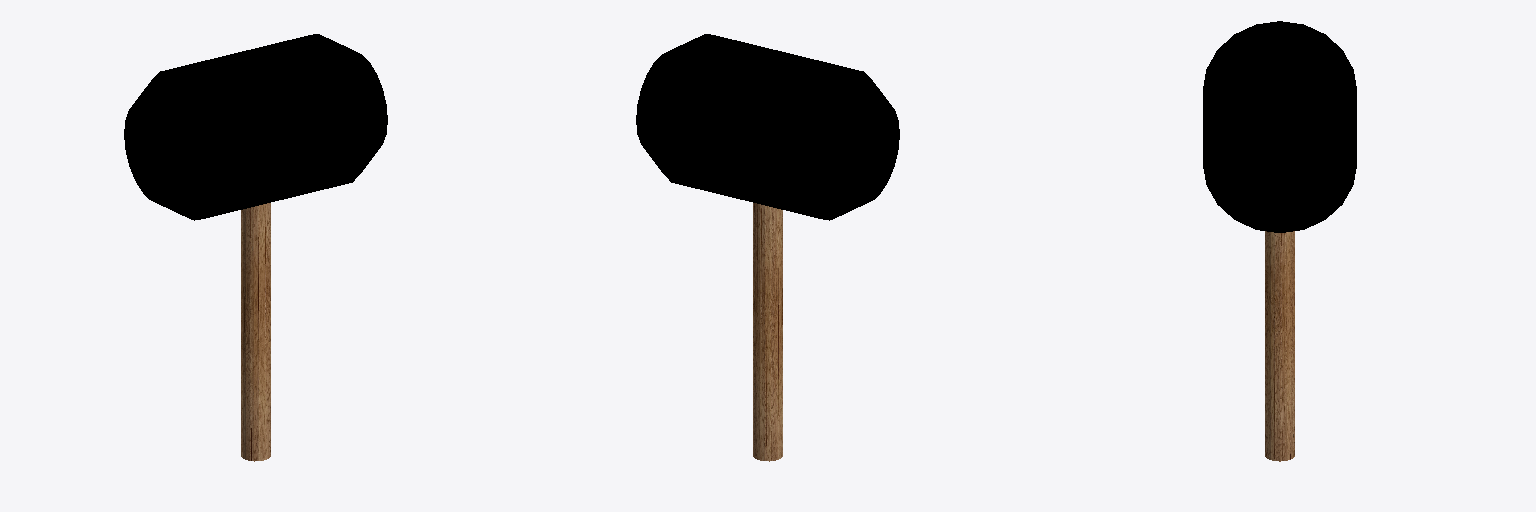
3 renders of one model, left to right at view 1: azimuth 30°, elevation 25°; view 2: azimuth 150°, elevation 25°; view 3: azimuth 270°, elevation 25°, orthographic.
Parts seen in each view (by area): view 1: pCylinder3; view 2: pCylinder3; view 3: pCylinder3.
Part boxes in pixels (bbox=[...]): pCylinder3: bbox=[124, 34, 387, 461]; pCylinder3: bbox=[636, 34, 899, 461]; pCylinder3: bbox=[1203, 21, 1356, 461].
Size of the model in its own units: 3.16 by 5.67 by 2.
2 materials, 1 textured.